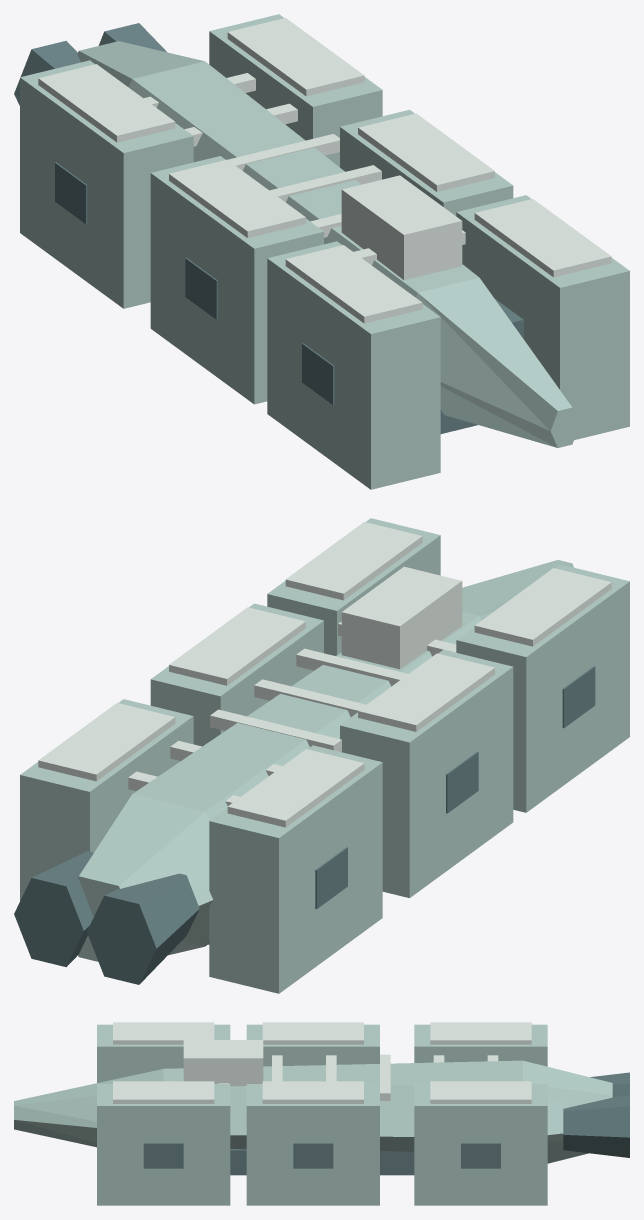
The picture shows the model from 3 angles, top to bottom: view 1: azimuth 30°, elevation 25°; view 2: azimuth 150°, elevation 25°; view 3: azimuth 270°, elevation 25°; orthographic projection. The views are drawn at different scales.
Bounding box in the file's own units: 3.24 × 2.14 × 10.28.
